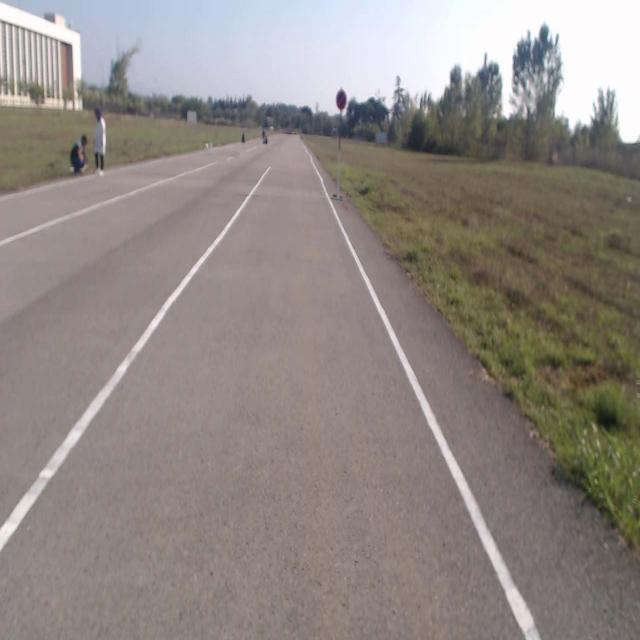parkyasak: (335, 88, 347, 112)
